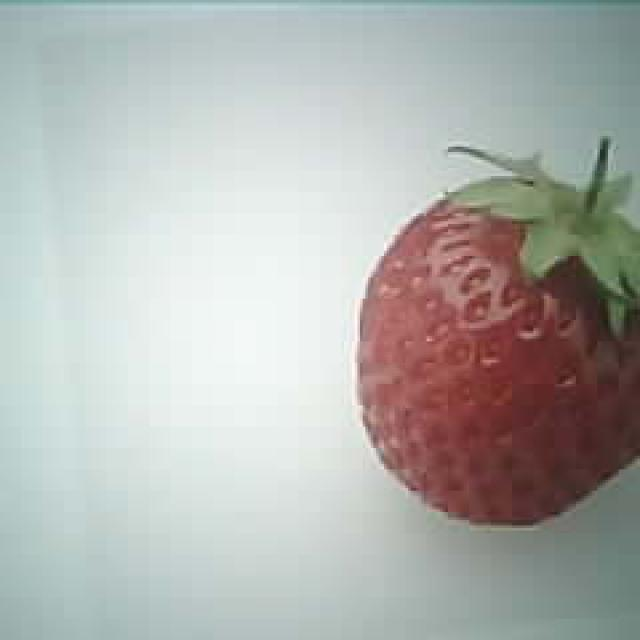ripe: (353, 183, 640, 524)
